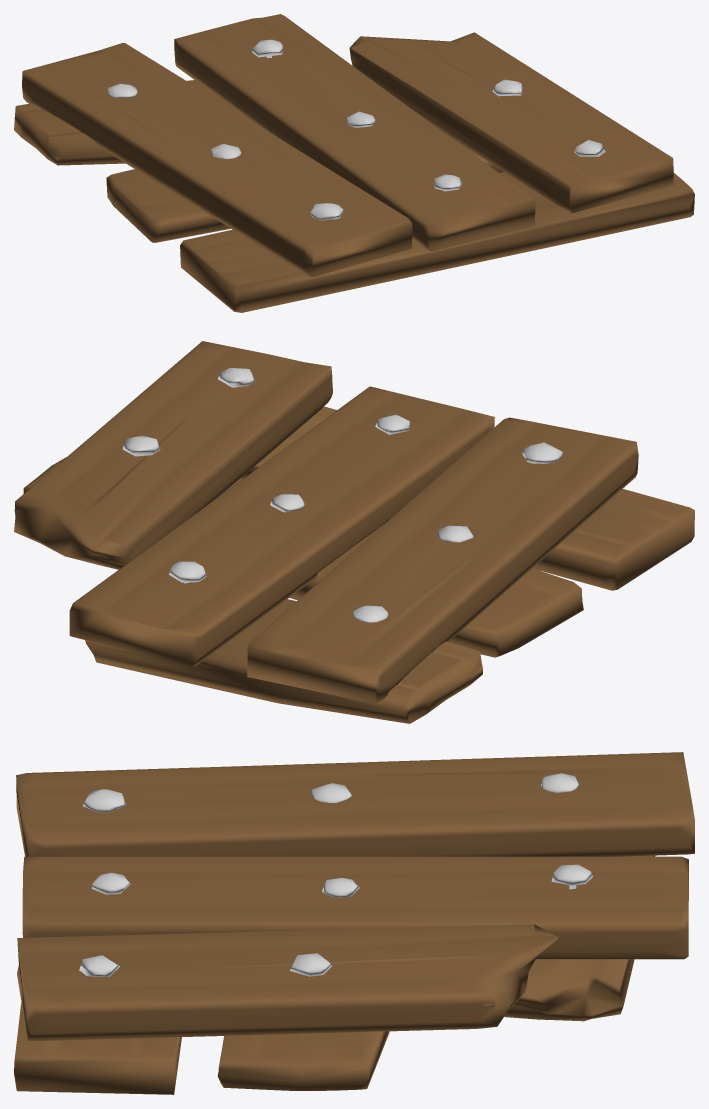
The model's file is plank_1.fbx.
3 renders of one model, top to bottom at view 1: azimuth 30°, elevation 25°; view 2: azimuth 150°, elevation 25°; view 3: azimuth 270°, elevation 25°, orthographic. The views are drawn at different scales.
Visible parts, largest first — view 1: plankb..002; view 2: plankb..002; view 3: plankb..002.
Boxes of the visible parts, x1,y1,x2,y2 form: plankb..002: [14, 14, 694, 312]; plankb..002: [14, 341, 694, 723]; plankb..002: [14, 752, 694, 1094].
Bounding box in the file's own units: 5450 × 985 × 5460.
